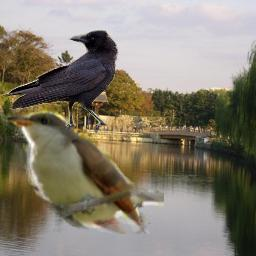Crow: (0, 30, 119, 133)
Cuckoo: (0, 99, 164, 234)
